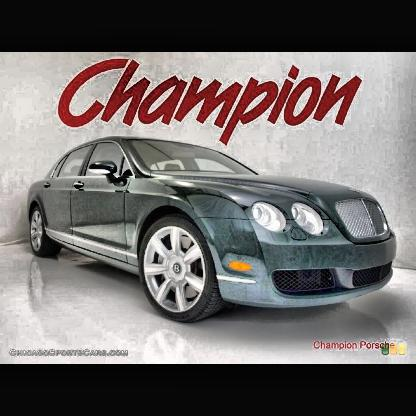Bentley Continental Flying Spur Sedan 2007: (25, 134, 400, 327)
